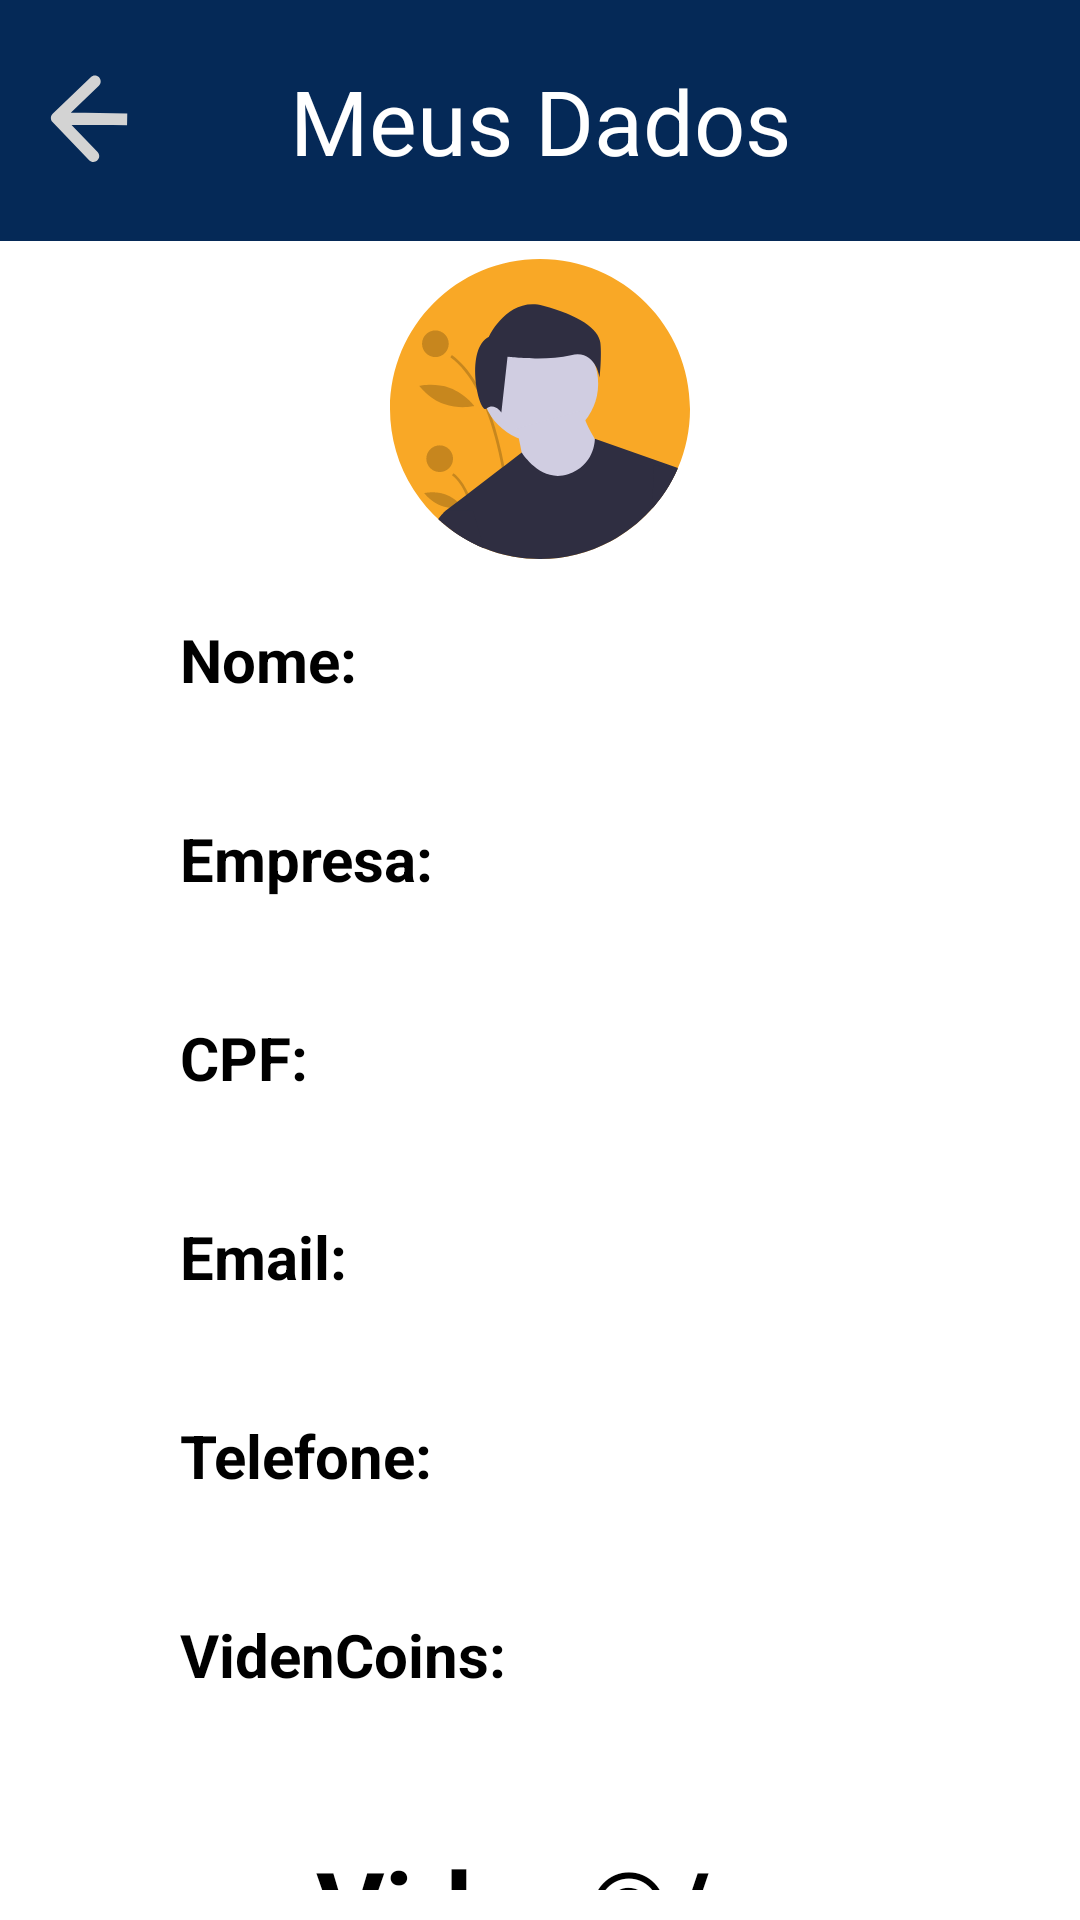

Named icons in this screenshot (1080*1920) and their bounding boxes, (x1, y1, x2, y2):
user: (390, 259, 690, 559)
